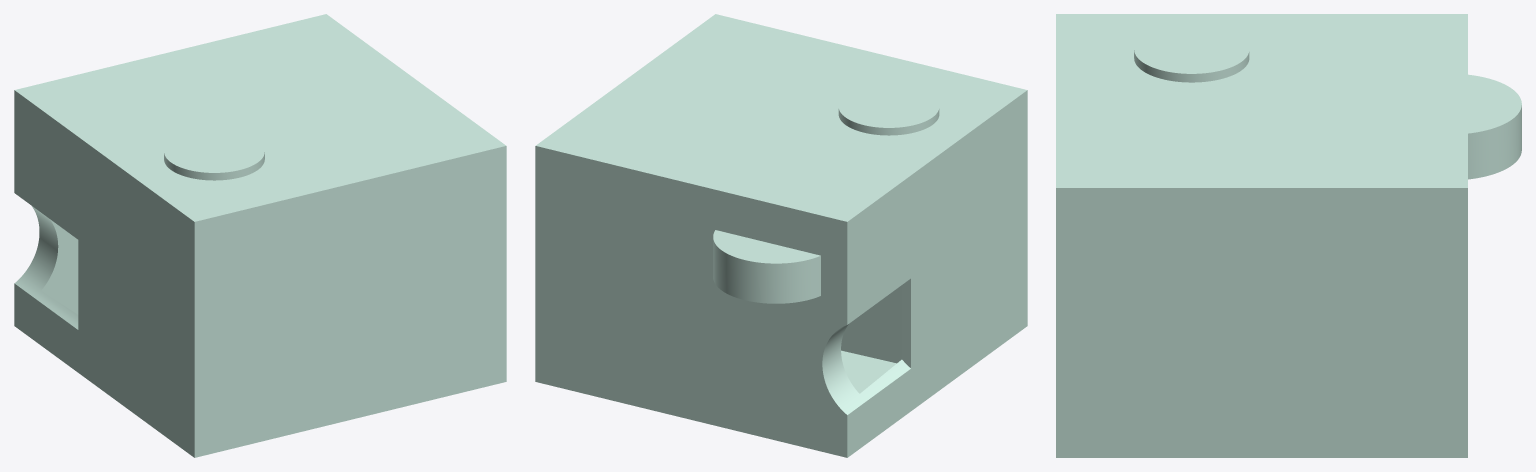
3 renders of one model, left to right at view 1: azimuth 30°, elevation 25°; view 2: azimuth 150°, elevation 25°; view 3: azimuth 270°, elevation 25°, orthographic. The views are drawn at different scales.
Visible parts, largest first — view 1: Renderer Node; view 2: Renderer Node; view 3: Renderer Node.
Part boxes in pixels (x1,y1,x2,y2): Renderer Node: (14,14,506,457); Renderer Node: (535,14,1027,457); Renderer Node: (1056,14,1521,457).
Bounding box in the file's own units: 1.02 × 0.7578 × 1.15.
